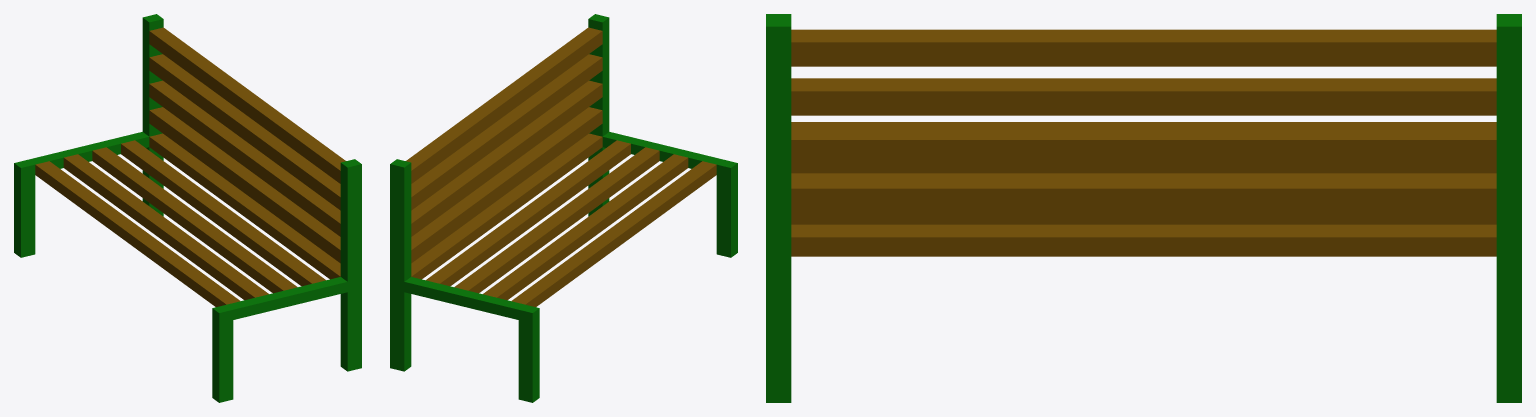
File: bench.fbx
The picture shows the model from 3 angles, left to right: view 1: azimuth 30°, elevation 25°; view 2: azimuth 150°, elevation 25°; view 3: azimuth 270°, elevation 25°; orthographic projection. The views are drawn at different scales.
Parts seen in each view (by area): view 1: Bench; view 2: Bench; view 3: Bench.
Part boxes in pixels (x1,y1,x2,y2): Bench: (14, 14, 361, 402); Bench: (390, 14, 737, 402); Bench: (766, 14, 1521, 402).
Size of the model in its own units: 151 by 207 by 377.
